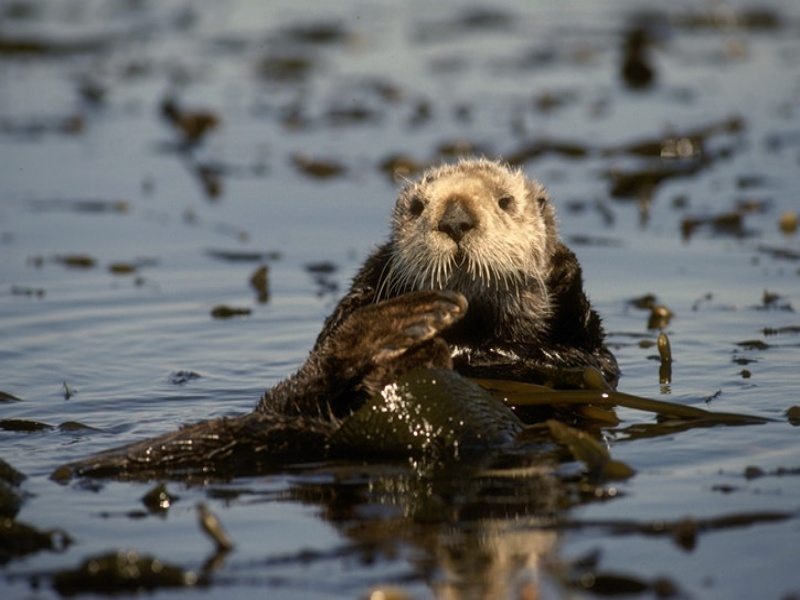minkish: (58, 151, 622, 500)
